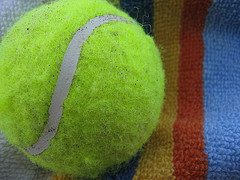tennis ball: (1, 1, 166, 174)
